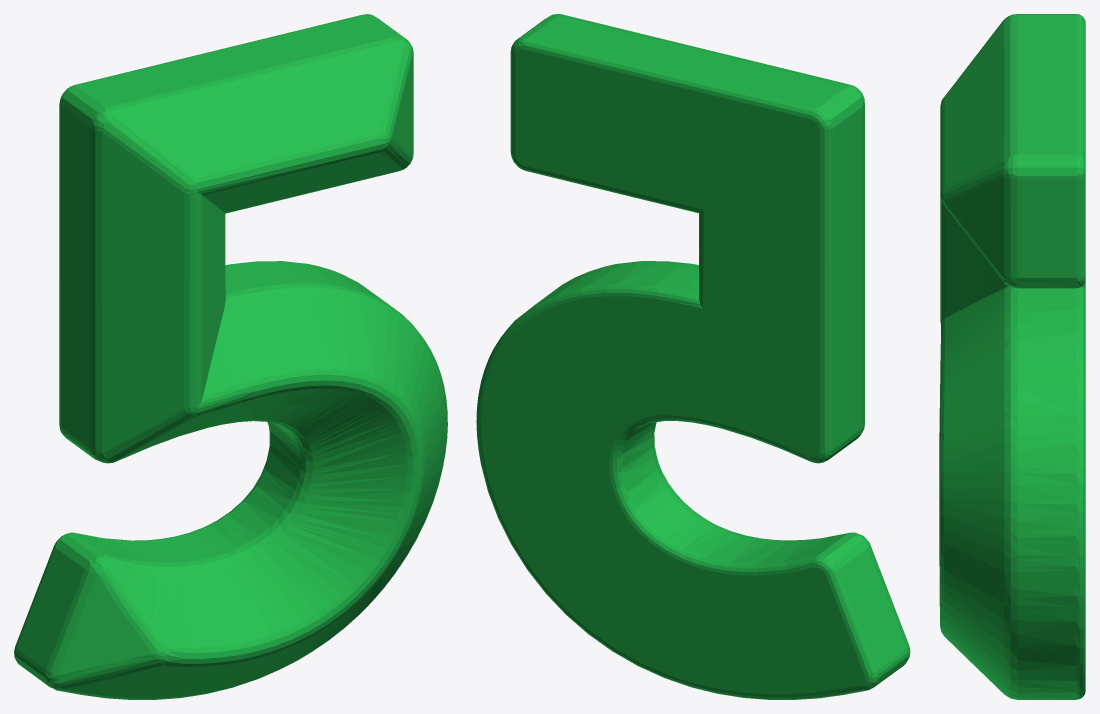
The model's file is five.obj.
3 views of the same model, side by side, from view 1: azimuth 30°, elevation 25°; view 2: azimuth 150°, elevation 25°; view 3: azimuth 270°, elevation 25° (orthographic).
Parts seen in each view (by area): view 1: Object.1; view 2: Object.1; view 3: Object.1.
Boxes of the visible parts, x1,y1,x2,y2 form: Object.1: [14, 14, 447, 699]; Object.1: [476, 14, 910, 699]; Object.1: [939, 14, 1085, 699].
Size of the model in its own units: 16.9 by 24.56 by 5.41.
